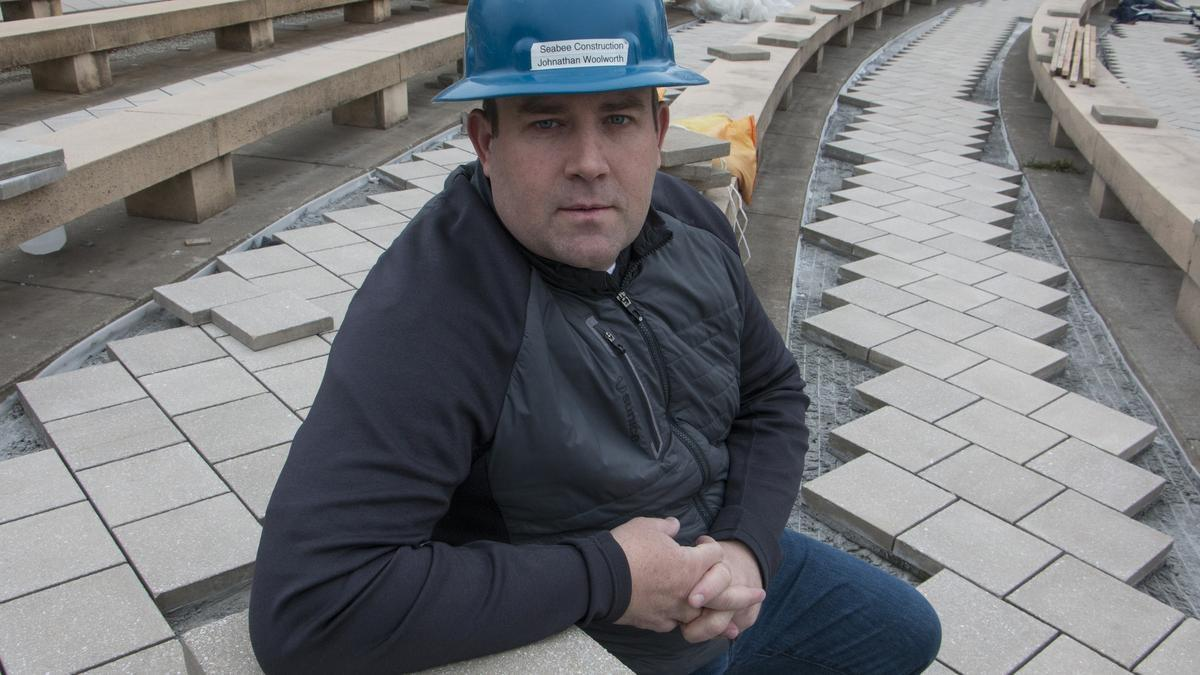helmet: (421, 0, 719, 107)
no_wear: (297, 258, 788, 603)
